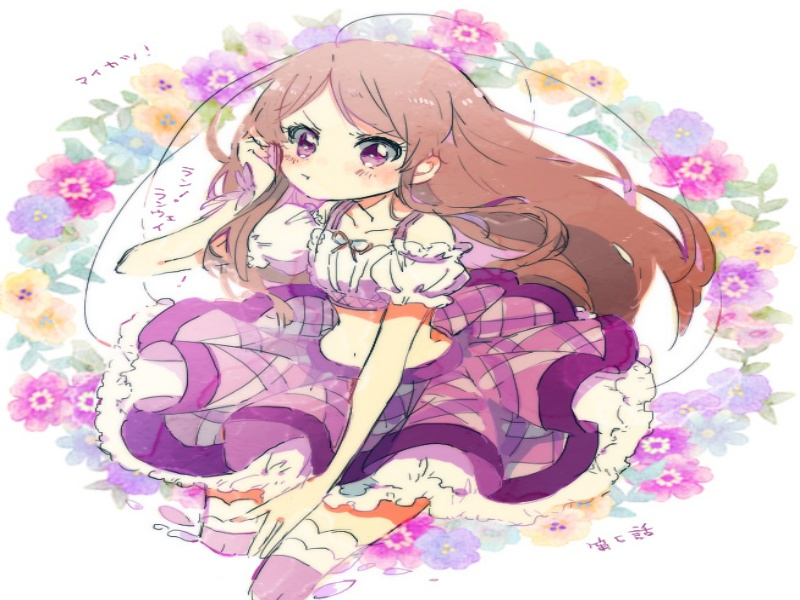flower: (23, 149, 135, 218), (651, 135, 748, 204), (178, 50, 269, 110), (355, 513, 432, 577), (673, 404, 754, 461), (704, 253, 784, 309), (424, 5, 507, 58), (555, 56, 638, 109), (643, 453, 721, 509), (649, 101, 716, 163), (2, 192, 83, 242), (126, 99, 204, 150), (702, 365, 777, 418), (92, 121, 173, 170), (9, 370, 71, 432), (414, 523, 485, 573), (53, 419, 114, 473), (520, 53, 585, 103), (20, 298, 81, 348), (633, 425, 696, 473), (1, 270, 54, 323), (738, 226, 800, 268), (69, 367, 107, 432), (698, 206, 755, 249), (13, 232, 74, 270), (243, 22, 288, 58), (736, 319, 778, 347)
